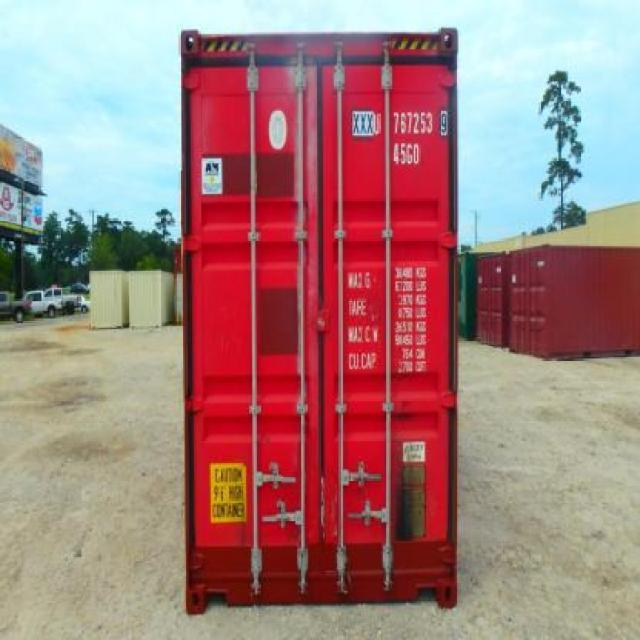ISO: (382, 142, 424, 164)
container_number: (350, 113, 440, 136)
